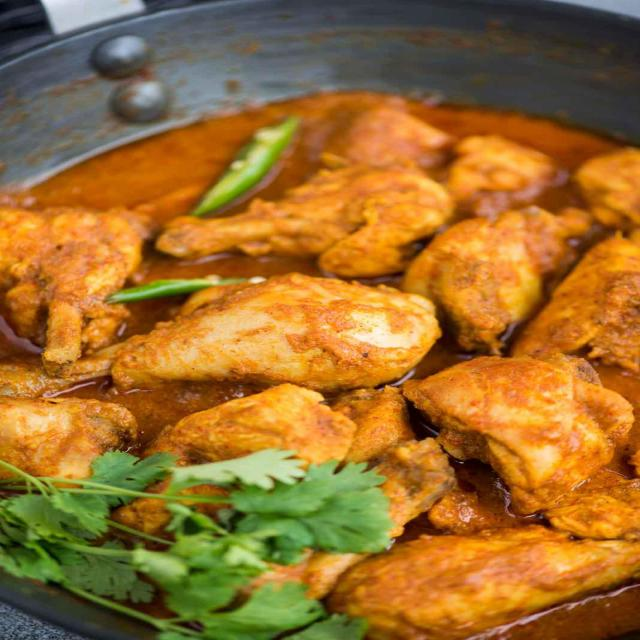chicken: (0, 85, 640, 640)
